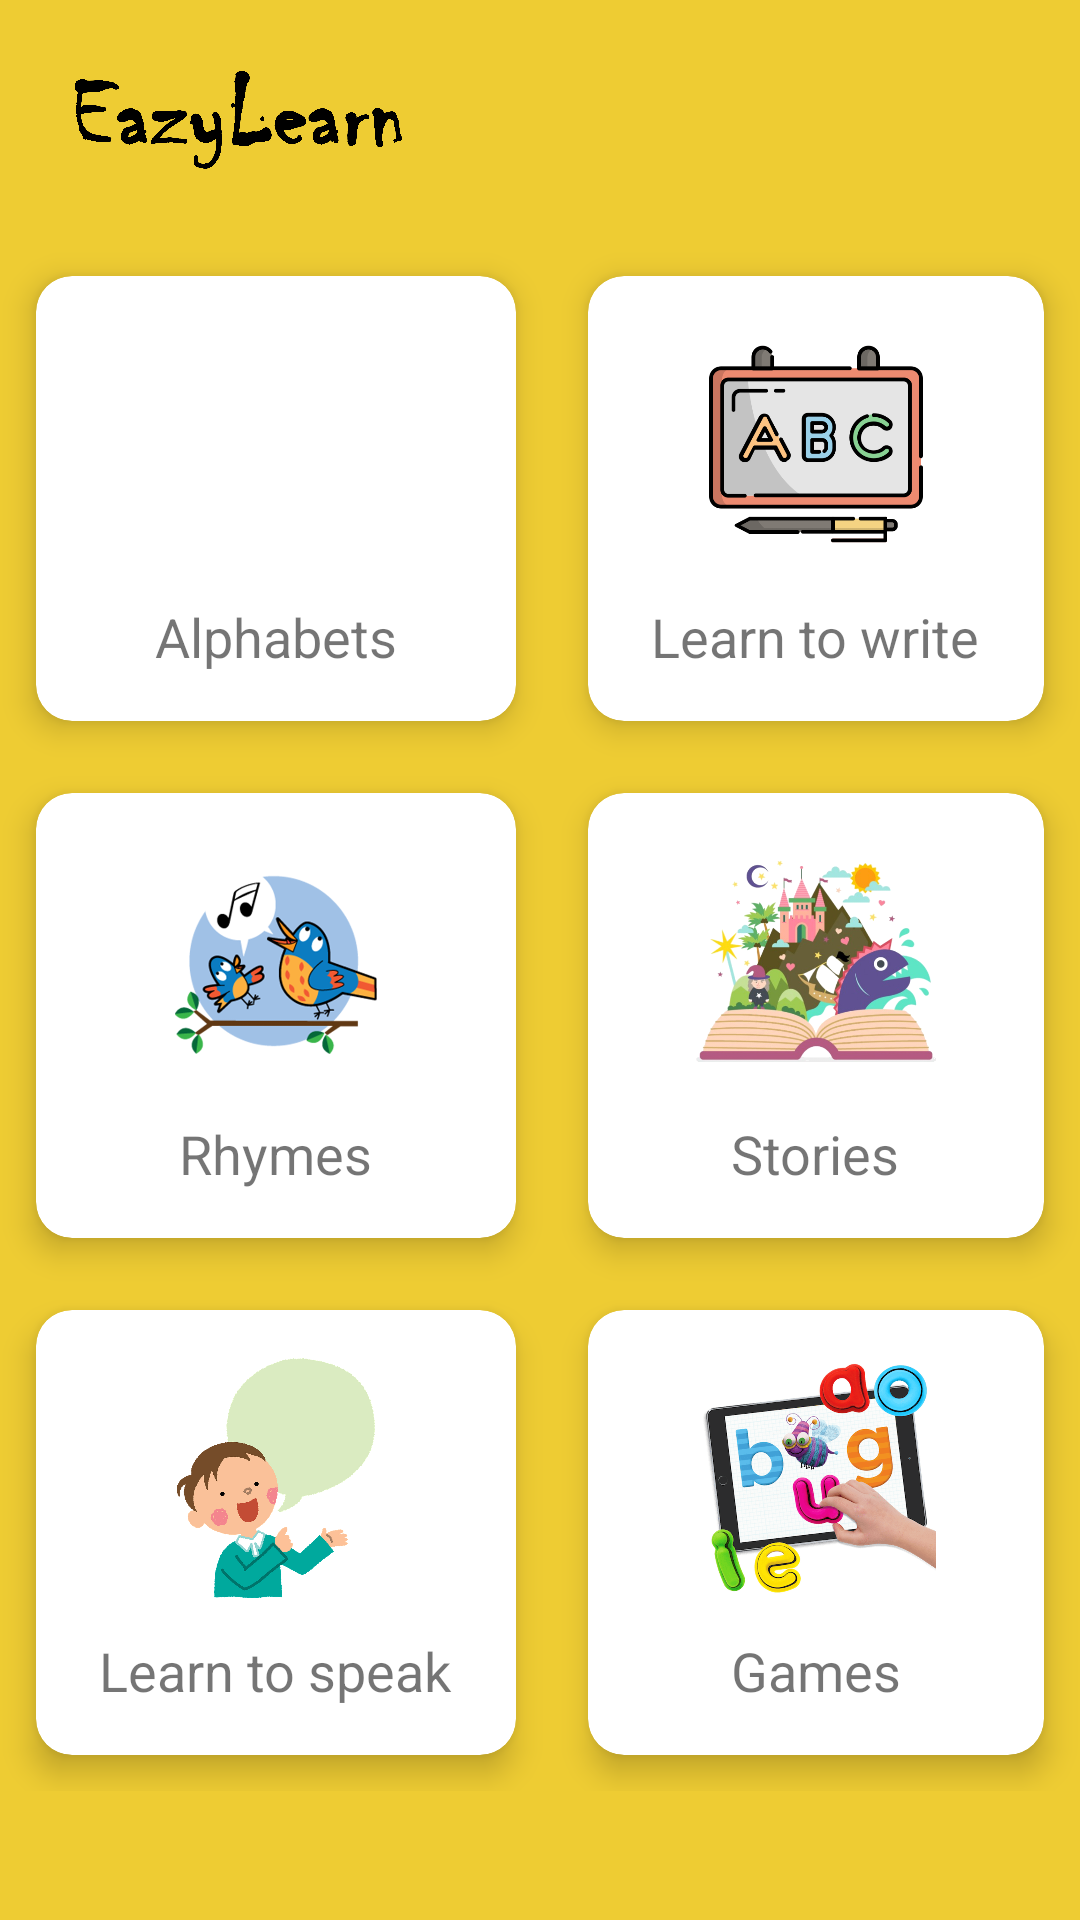

Locate icon controls on the screen. Image size 1080px x 1920px, boxes as box=[x1, y1, x2, y2].
board: box=[709, 345, 923, 543]
